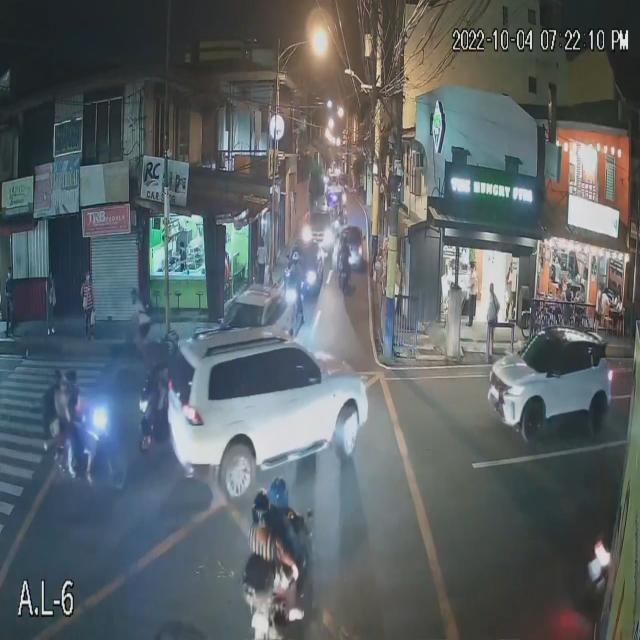Full-Faced: (253, 484, 272, 520), (271, 472, 289, 507), (62, 370, 80, 392)
